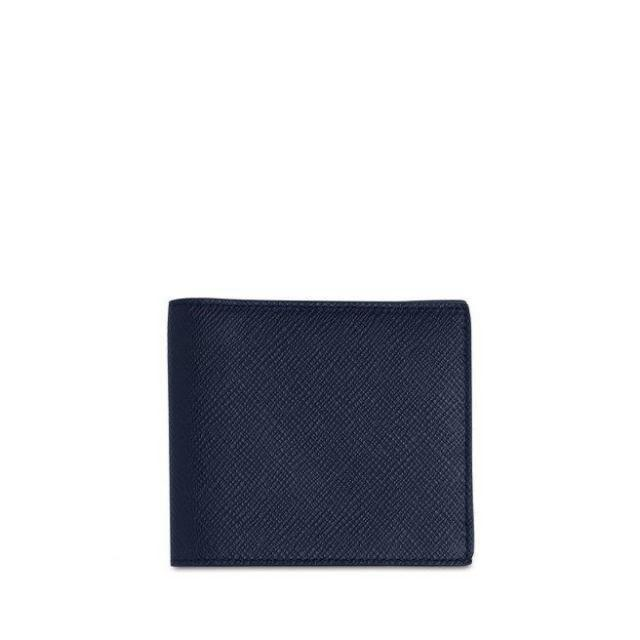Wallet: (163, 292, 481, 572)
